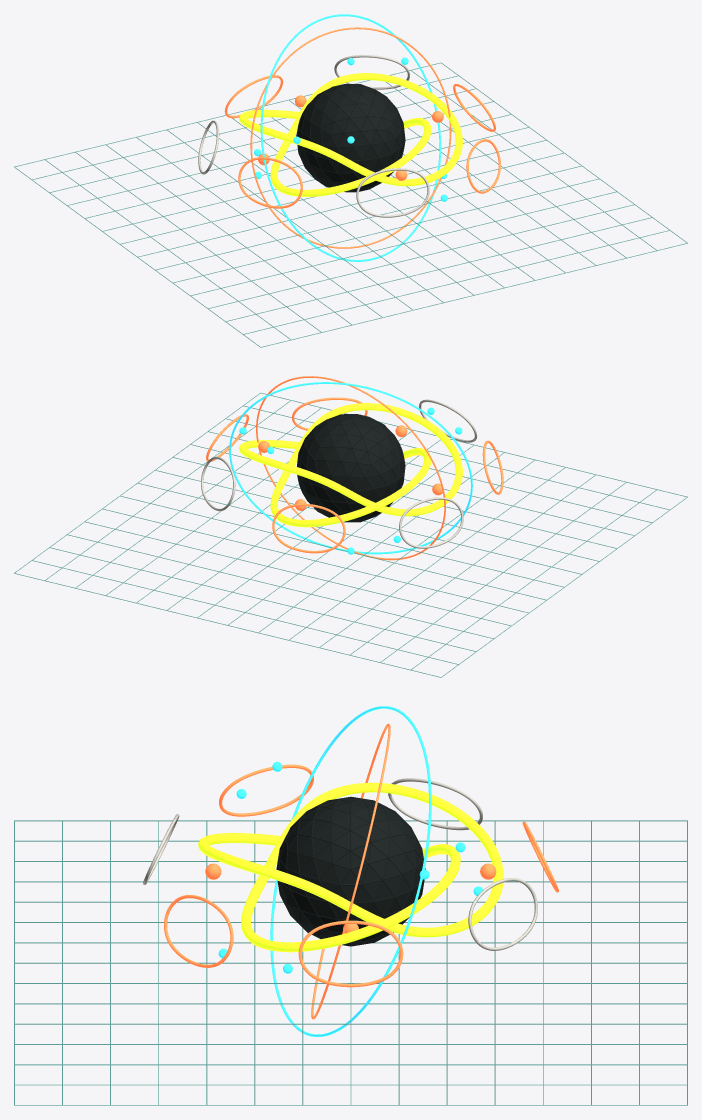
File: profile-sculpture.glb
3 views of the same model, one above another, from view 1: azimuth 30°, elevation 25°; view 2: azimuth 150°, elevation 25°; view 3: azimuth 270°, elevation 25° (orthographic). The views are drawn at different scales.
Parts seen in each view (by area): view 1: Wireframe Vision Core, Creative System Knot, Spatial Orbit, Cinematic Orbit, Film Frame 6, Grid X -7, Grid X -4, Grid X -2, Grid X -3, Grid X -6, Grid X -5, Film Frame 5 (+2 smaller); view 2: Wireframe Vision Core, Creative System Knot, Spatial Orbit, Cinematic Orbit, Film Frame 3, Grid X 7, Grid X 3, Grid X 5, Grid X 6, Grid X 4, Grid X 2, Grid X 1 (+2 smaller); view 3: Wireframe Vision Core, Creative System Knot, Spatial Orbit, Grid Y 3, Grid Y 5, Grid Y 6, Grid Y 2, Grid Y 0, Cinematic Orbit, Grid Y -1, Film Frame 1, Grid Y -7 (+10 smaller).
Boxes of the visible parts, x1,y1,x2,y2 form: Wireframe Vision Core: (296, 84, 405, 192); Creative System Knot: (239, 73, 462, 196); Spatial Orbit: (260, 14, 441, 261); Cinematic Orbit: (250, 27, 451, 248); Film Frame 6: (356, 168, 429, 217); Grid X -7: (260, 243, 687, 347); Grid X -4: (208, 204, 634, 308); Grid X -2: (173, 178, 599, 282); Grid X -3: (190, 191, 617, 295); Grid X -6: (243, 230, 669, 334); Grid X -5: (226, 217, 652, 321); Film Frame 5: (238, 157, 302, 208); Wireframe Vision Core: (297, 414, 405, 522); Creative System Knot: (239, 403, 462, 527); Spatial Orbit: (229, 382, 472, 554); Cinematic Orbit: (256, 376, 445, 560); Film Frame 3: (272, 503, 345, 553); Grid X 7: (14, 573, 441, 677); Grid X 3: (85, 521, 510, 625); Grid X 5: (49, 547, 475, 651); Grid X 6: (32, 560, 458, 664); Grid X 4: (67, 534, 493, 638); Grid X 2: (102, 508, 528, 612); Grid X 1: (120, 496, 546, 600); Wireframe Vision Core: (276, 796, 425, 946); Creative System Knot: (198, 782, 503, 952); Spatial Orbit: (270, 706, 431, 1036); Grid Y 3: (15, 1023, 686, 1024); Grid Y 5: (15, 1064, 686, 1065); Grid Y 6: (15, 1084, 686, 1085); Grid Y 2: (14, 1003, 687, 1004); Grid Y 0: (15, 962, 686, 963); Cinematic Orbit: (311, 723, 390, 1019); Grid Y -1: (14, 942, 687, 943); Film Frame 1: (298, 920, 403, 987); Grid Y -7: (14, 820, 687, 821).
Size of the model in its own units: 14.02 by 6.55 by 14.02.
